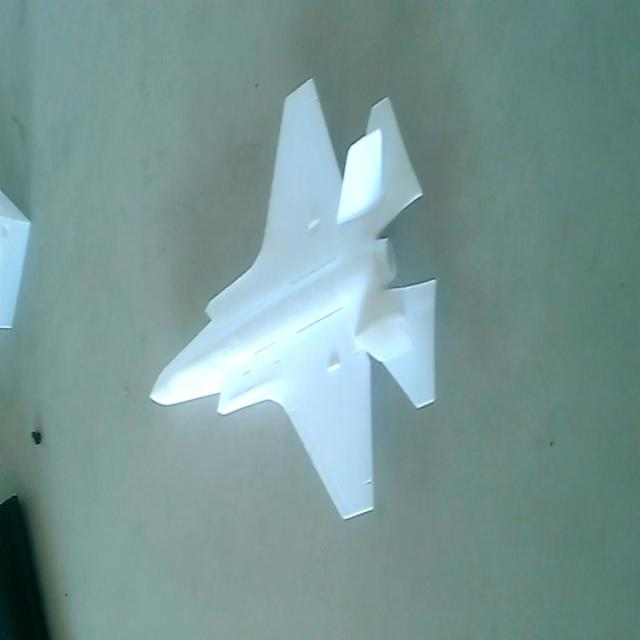Jet: (148, 73, 442, 537)
